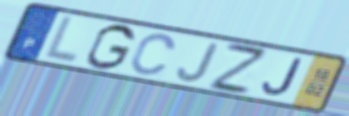C: (128, 32, 178, 77)
G: (83, 23, 138, 72)
J: (175, 41, 222, 83), (260, 56, 305, 98)
L: (40, 14, 81, 66)
Z: (205, 40, 269, 97)
